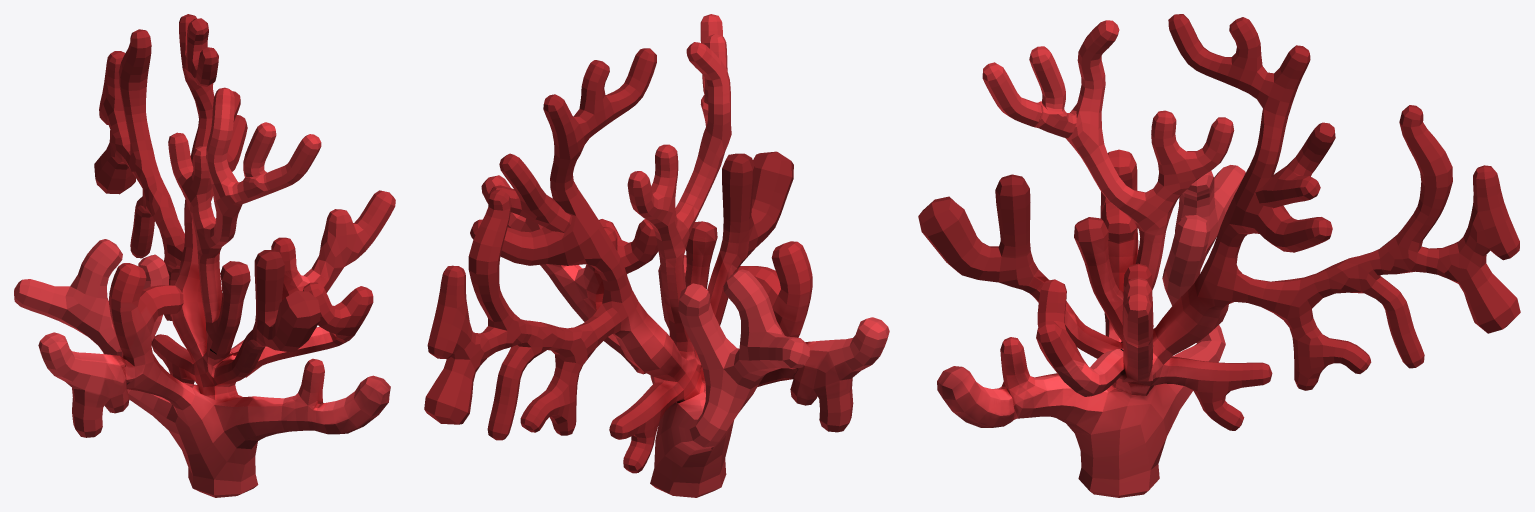
File: coral6.glb
3 views of the same model, side by side, from view 1: azimuth 30°, elevation 25°; view 2: azimuth 150°, elevation 25°; view 3: azimuth 270°, elevation 25° (orthographic). The views are drawn at different scales.
Visible parts, largest first — view 1: Plane.013; view 2: Plane.013; view 3: Plane.013.
Part boxes in pixels (box(x1,y1,x2,y2)): Plane.013: box(14, 14, 395, 497); Plane.013: box(424, 14, 889, 497); Plane.013: box(918, 14, 1520, 497).
Size of the model in its own units: 0.762 by 0.8498 by 0.9581.
1 material, 1 textured.
